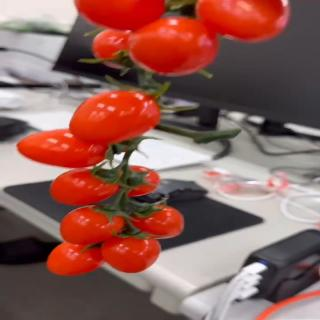tomato: (70, 90, 164, 147), (126, 21, 221, 77), (193, 0, 290, 40), (18, 129, 112, 170), (72, 0, 168, 32), (48, 168, 122, 208), (61, 203, 128, 244), (101, 234, 163, 274), (45, 239, 106, 276), (128, 203, 184, 238), (91, 27, 137, 69), (114, 164, 162, 197)
